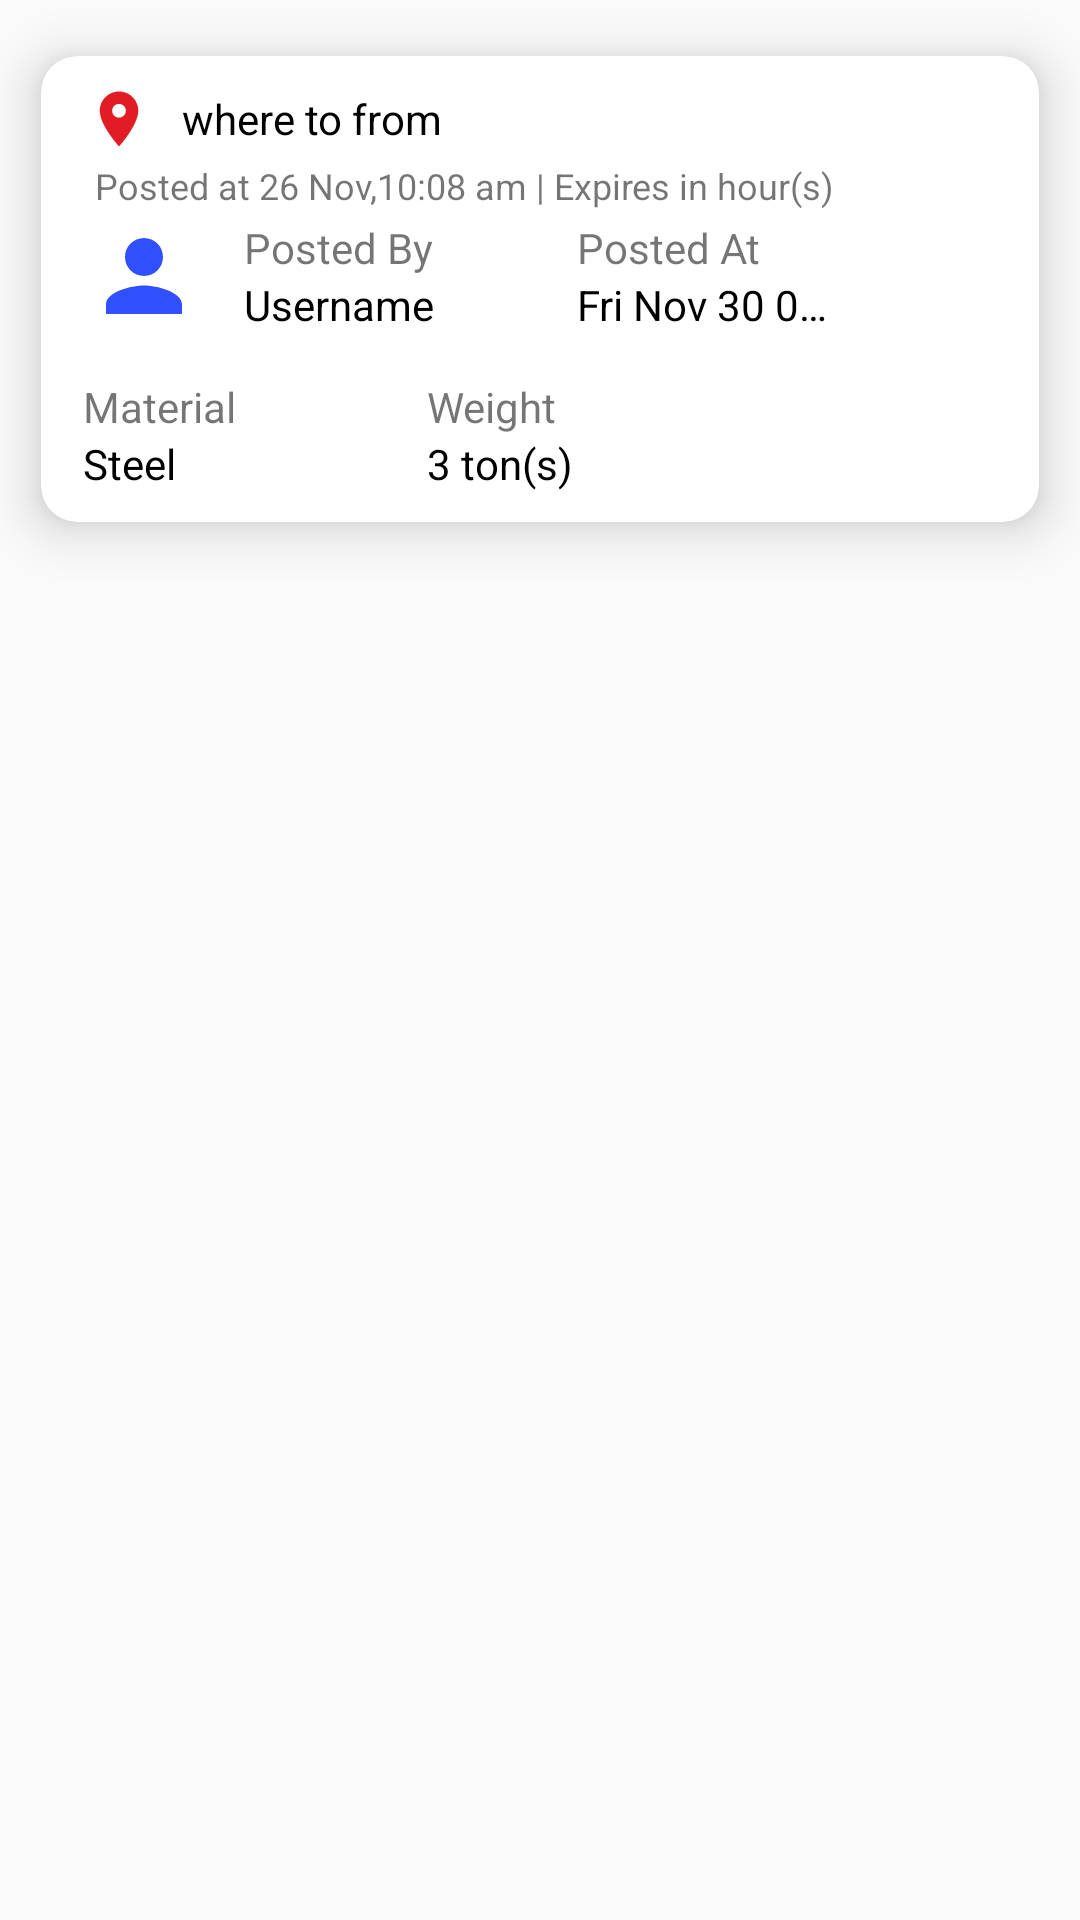

Icon click points for this 1080*1920 phone screenshot, format (x=x, y=y):
location: (x=119, y=118)
person: (x=144, y=276)
